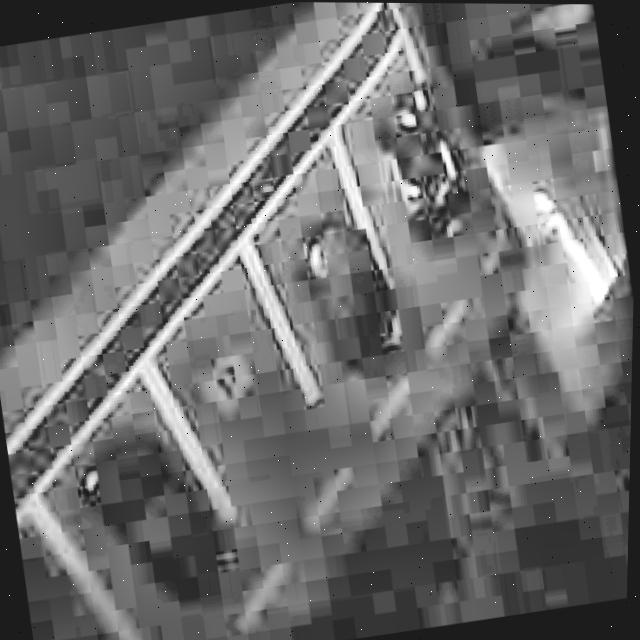car: (52, 402, 249, 635), (279, 198, 428, 399), (356, 60, 486, 257)
